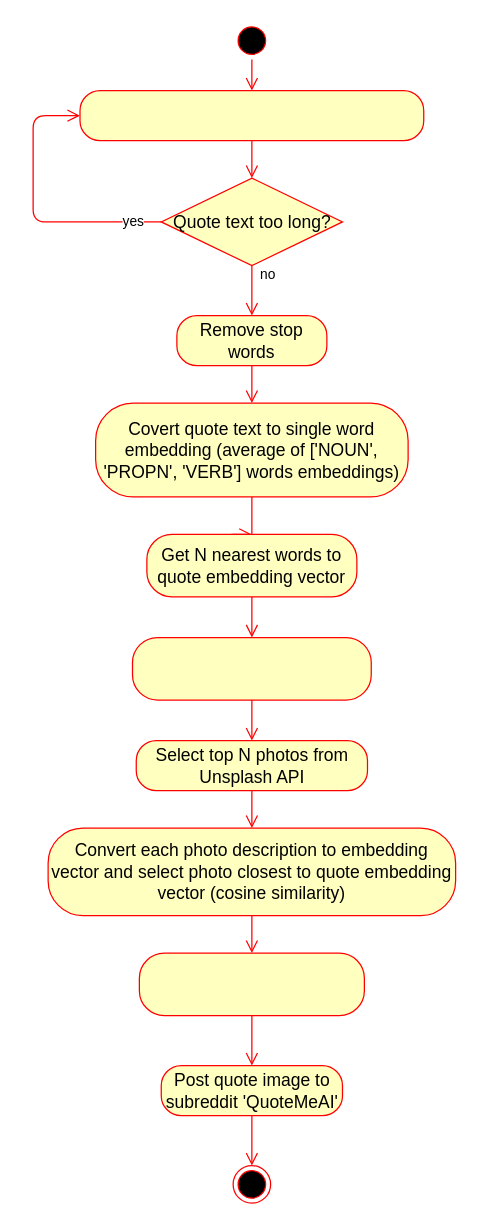
The diagram is 478 pixels wide and 1225 high, and some of its shapes have lost their labels. The shapes that lost their labels are listed below. From the top down, each one's centre as x and y in pixels, then its label:
At point 251,115: "GPT-2 generates quote text".
At point 251,668: "Make image search by selected keywords using Unsplash API".
At point 251,984: "Put grey overlay on image and write quote text".
